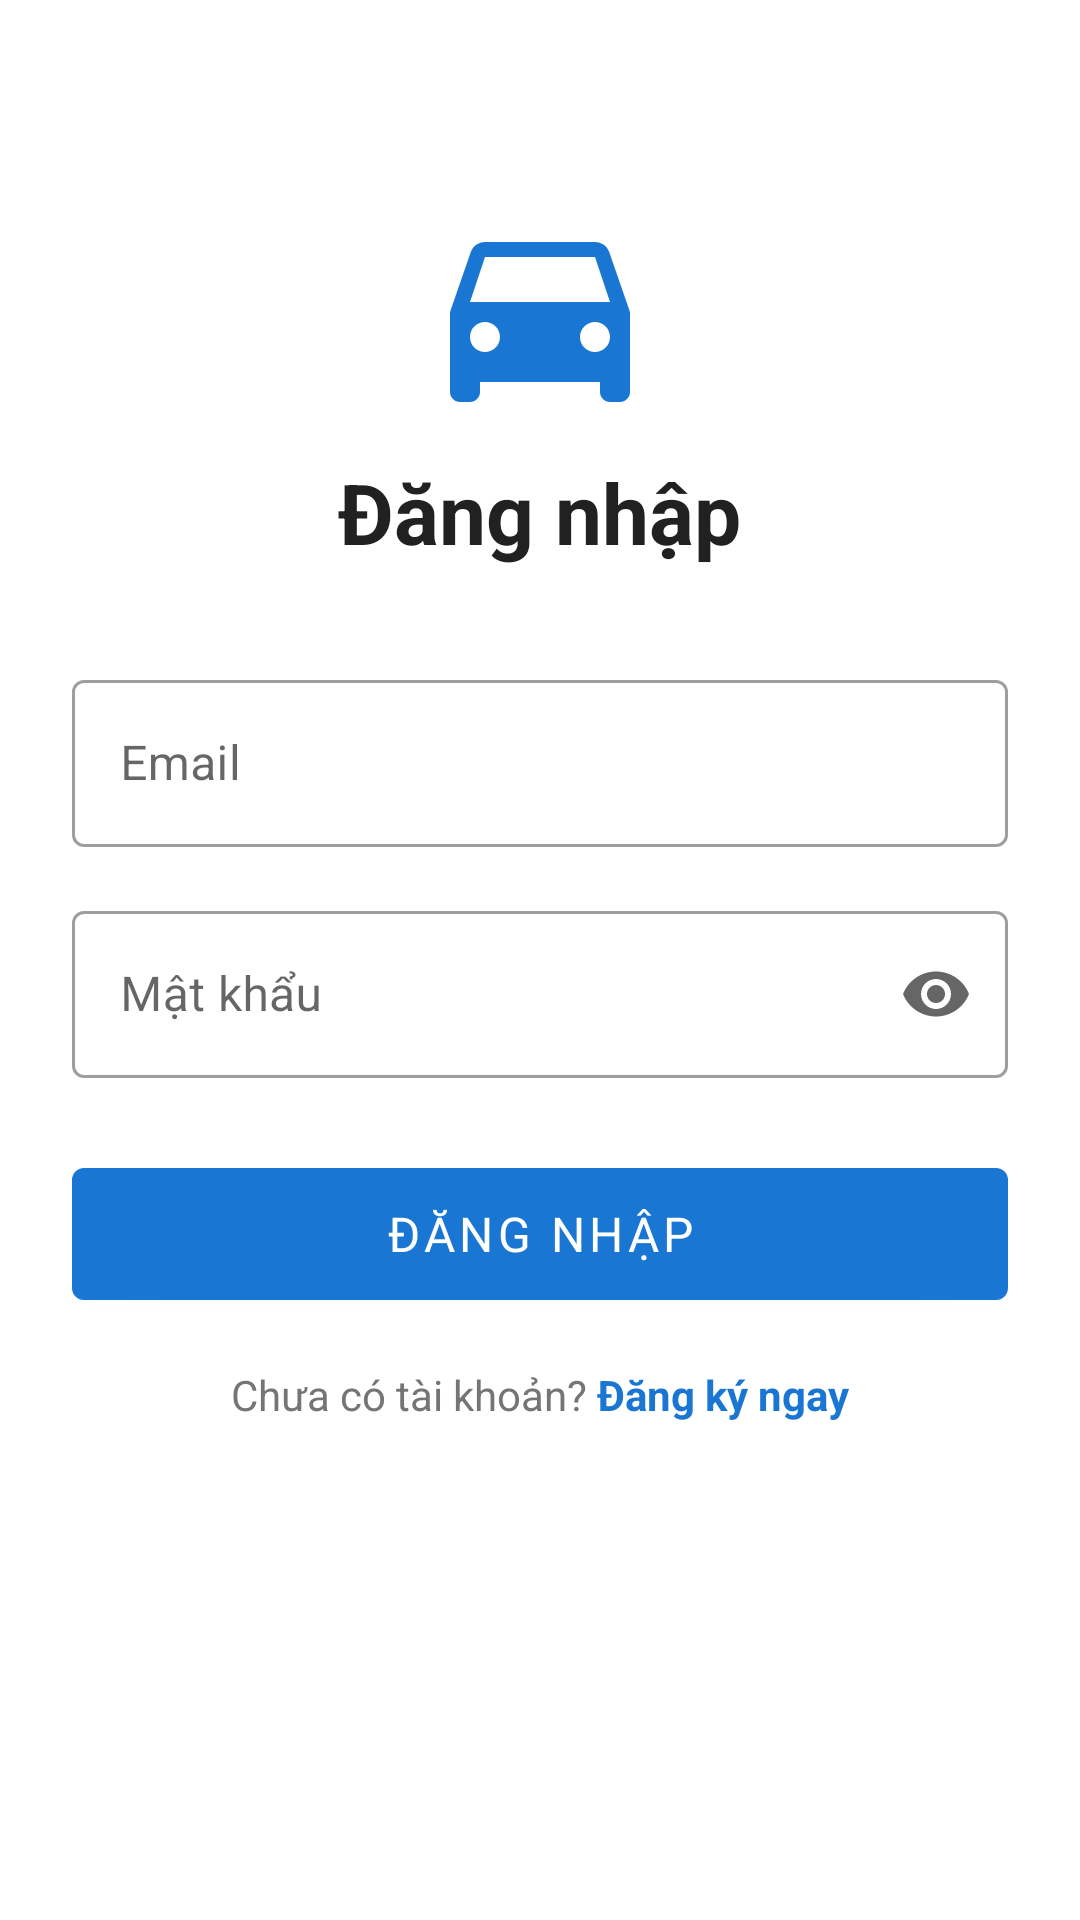

Named icons in this screenshot (1080px×1920px) and their bounding boxes, region(x1, y1, x2, y2):
car: region(450, 242, 630, 402)
